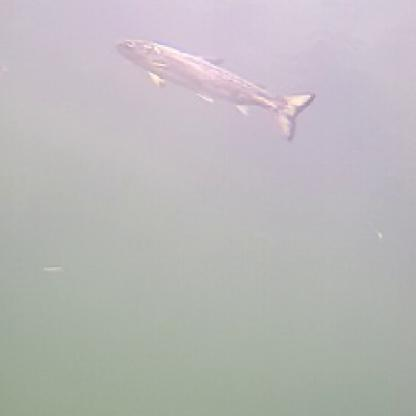salmon: (109, 33, 317, 140)
